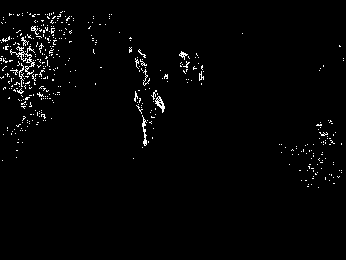person: (134, 74, 166, 145)
